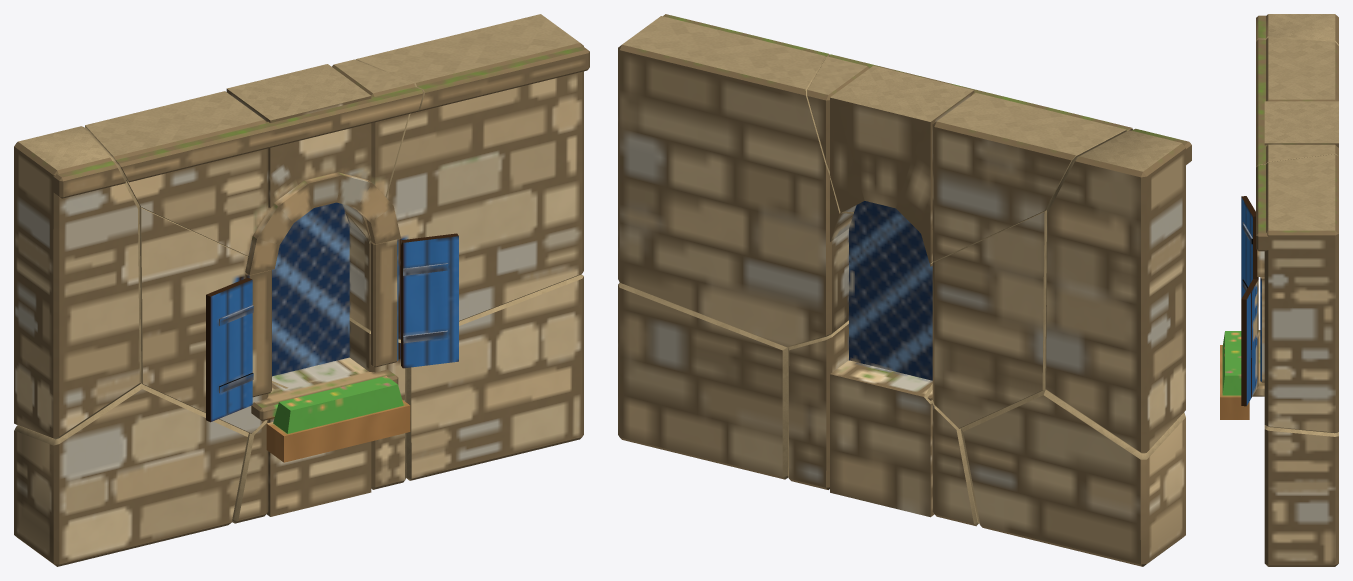
File: Kit_Keep_Wall_Fractured.fbx
3 views of the same model, side by side, from view 1: azimuth 30°, elevation 25°; view 2: azimuth 150°, elevation 25°; view 3: azimuth 270°, elevation 25° (orthographic). The views are drawn at different scales.
Parts seen in each view (by area): view 1: Kit_Keep_Wall_frag_02, Kit_Keep_Wall_frag_01, Kit_Keep_Wall_frag_03, Kit_Keep_Wall_frag_07, Kit_Keep_Wall_frag_06, Kit_Keep_Wall_frag_05, Kit_Keep_Wall_frag_04; view 2: Kit_Keep_Wall_frag_02, Kit_Keep_Wall_frag_03, Kit_Keep_Wall_frag_01, Kit_Keep_Wall_frag_07, Kit_Keep_Wall_frag_06, Kit_Keep_Wall_frag_05, Kit_Keep_Wall_frag_04; view 3: Kit_Keep_Wall_frag_02, Kit_Keep_Wall_frag_05, Kit_Keep_Wall_frag_01, Kit_Keep_Wall_frag_04, Kit_Keep_Wall_frag_03, Kit_Keep_Wall_frag_07.
Boxes of the visible parts, <box> form: Kit_Keep_Wall_frag_02: <box>345,14,589,368</box>; Kit_Keep_Wall_frag_01: <box>85,59,423,275</box>; Kit_Keep_Wall_frag_03: <box>14,126,141,439</box>; Kit_Keep_Wall_frag_07: <box>139,202,349,433</box>; Kit_Keep_Wall_frag_06: <box>14,383,248,566</box>; Kit_Keep_Wall_frag_05: <box>406,274,583,480</box>; Kit_Keep_Wall_frag_04: <box>232,317,410,523</box>; Kit_Keep_Wall_frag_02: <box>618,14,853,347</box>; Kit_Keep_Wall_frag_03: <box>1045,128,1191,453</box>; Kit_Keep_Wall_frag_01: <box>807,54,1132,263</box>; Kit_Keep_Wall_frag_07: <box>849,201,1046,428</box>; Kit_Keep_Wall_frag_06: <box>960,389,1185,566</box>; Kit_Keep_Wall_frag_05: <box>618,283,788,479</box>; Kit_Keep_Wall_frag_04: <box>788,320,978,526</box>; Kit_Keep_Wall_frag_02: <box>1241,154,1338,433</box>; Kit_Keep_Wall_frag_05: <box>1264,425,1338,566</box>; Kit_Keep_Wall_frag_01: <box>1256,37,1338,167</box>; Kit_Keep_Wall_frag_04: <box>1220,330,1264,419</box>; Kit_Keep_Wall_frag_03: <box>1256,14,1338,45</box>; Kit_Keep_Wall_frag_07: <box>1241,196,1258,298</box>.
Size of what is drawn, in the model's own units: 4.2 by 3 by 0.9601.
Materials: 2 (2 with a texture image).
